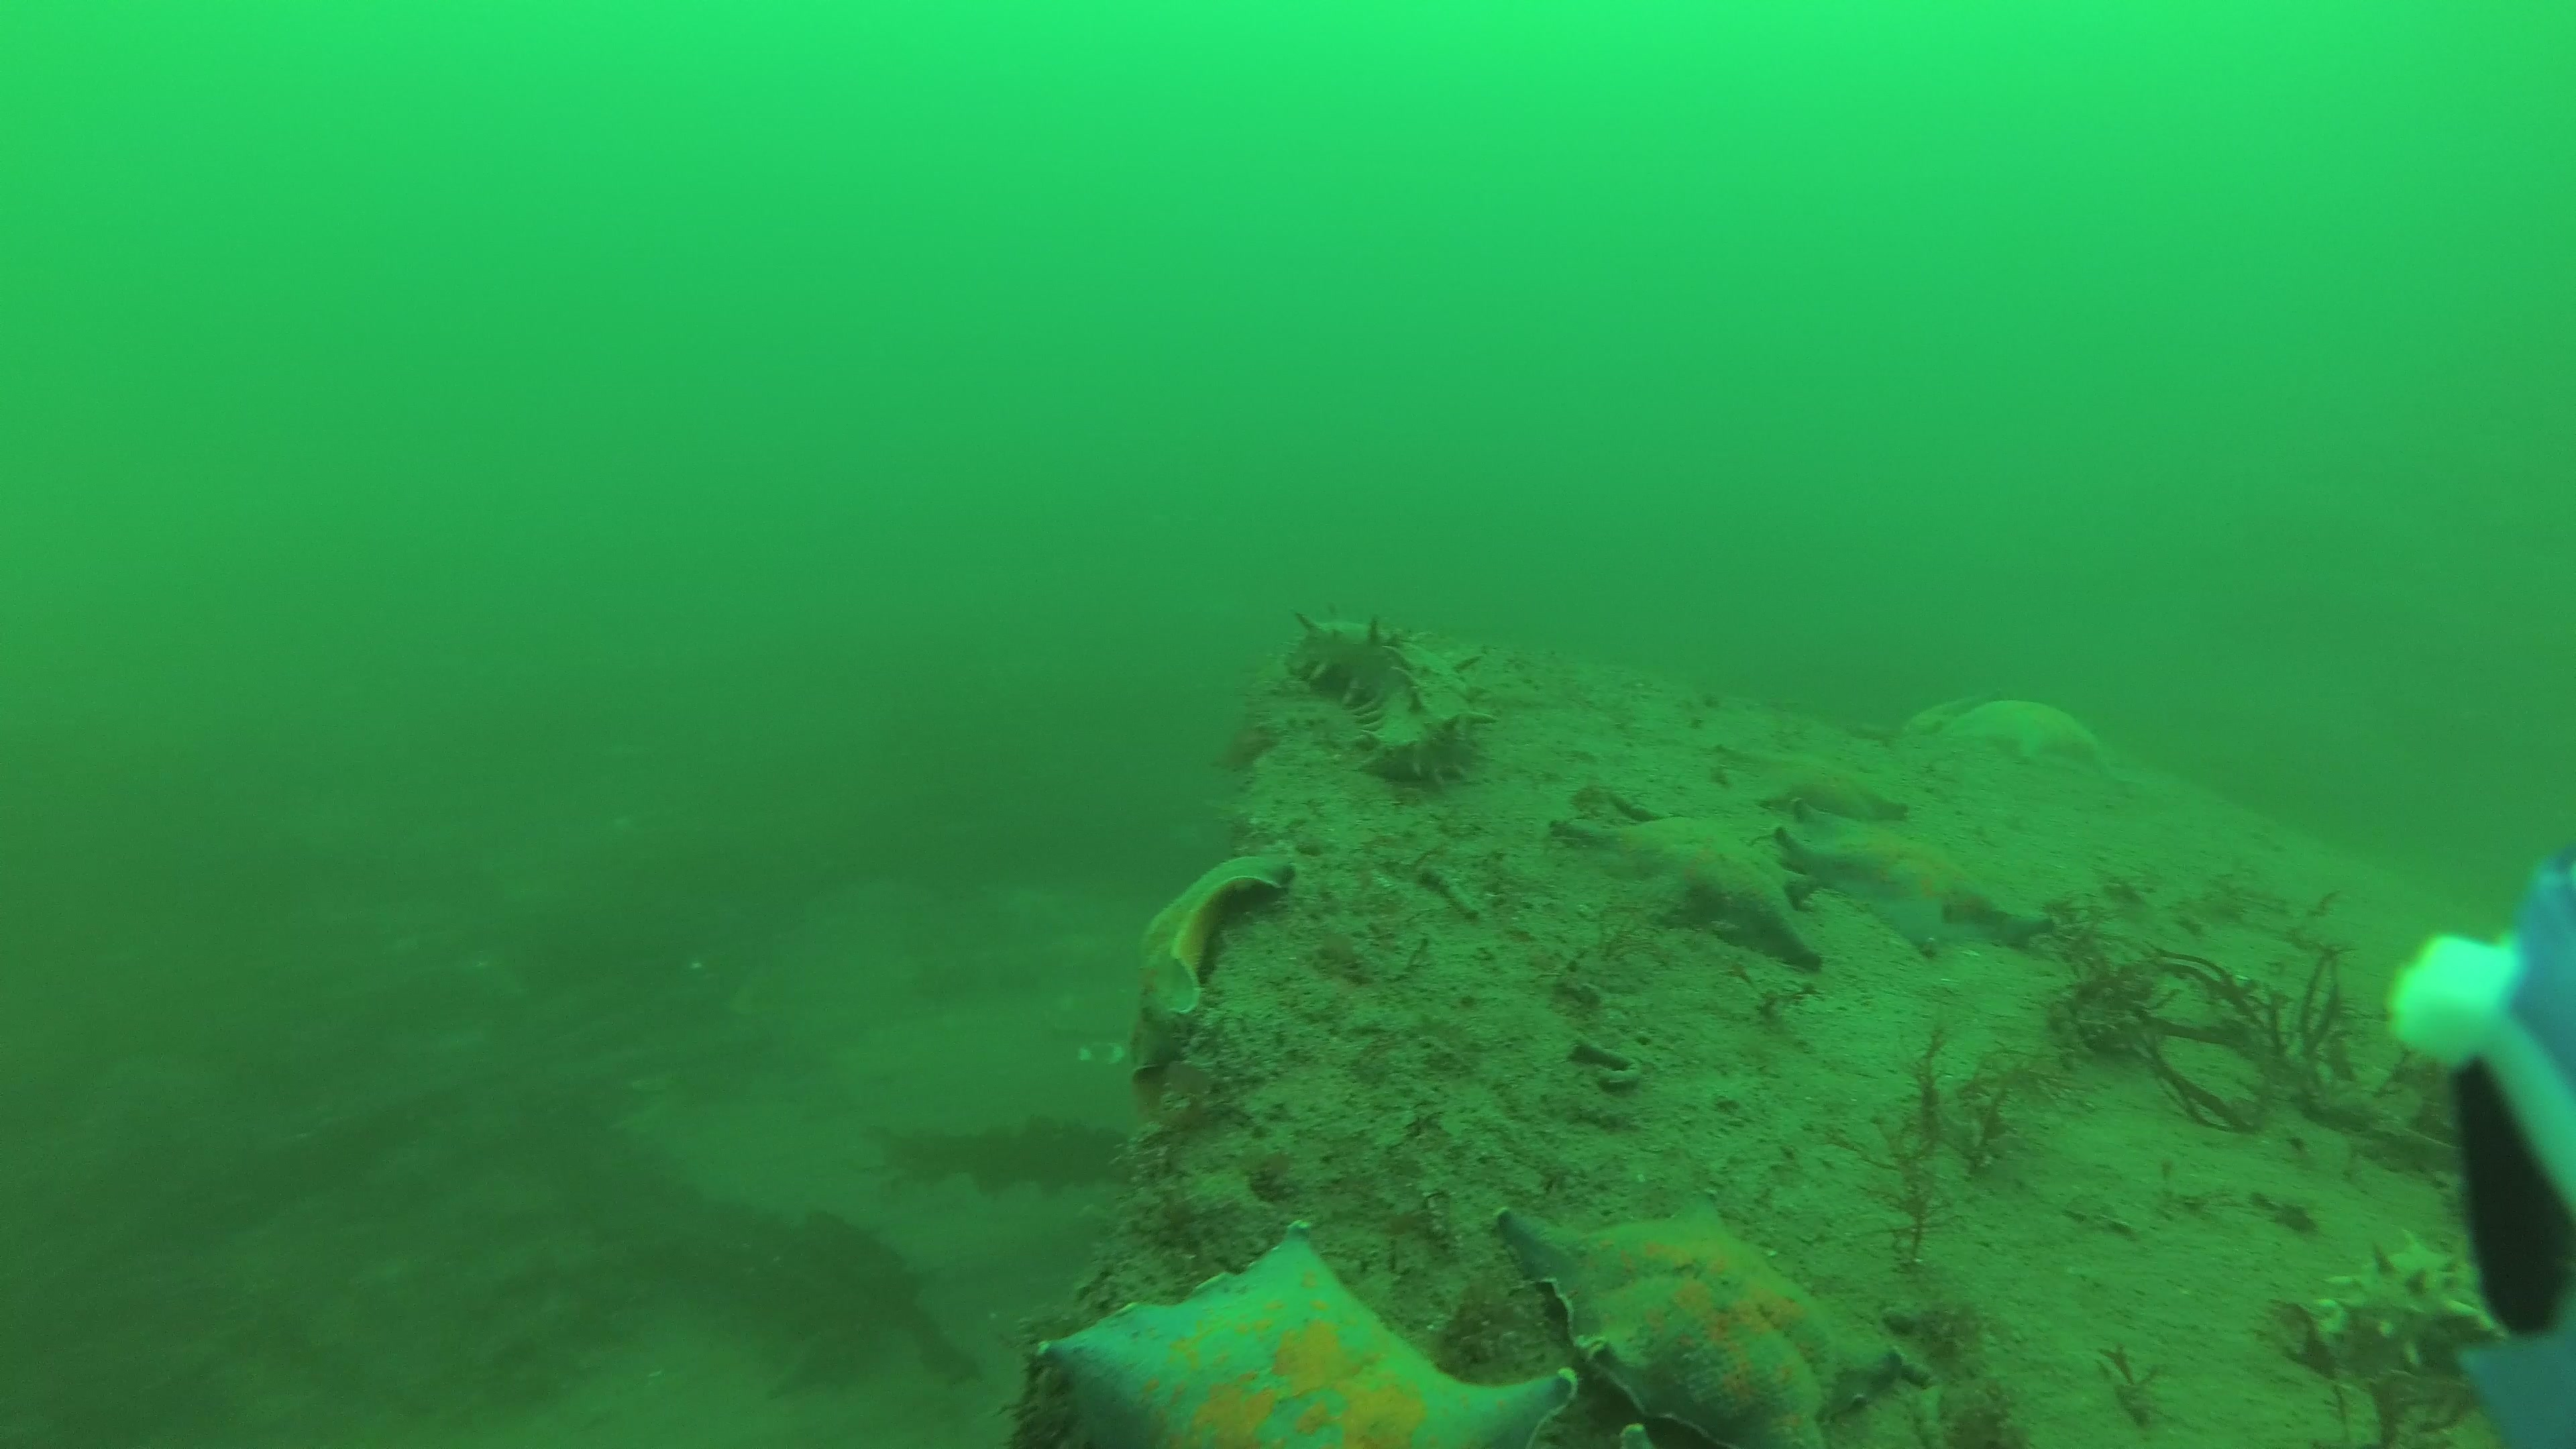echinus: (2328, 1233, 2502, 1378)
holothurian: (1284, 605, 1504, 794)
starfish: (1035, 1215, 1580, 1449), (1491, 1194, 1907, 1449), (1775, 800, 2045, 962), (1559, 810, 1822, 970), (1141, 851, 1290, 1077), (1941, 697, 2112, 773)
